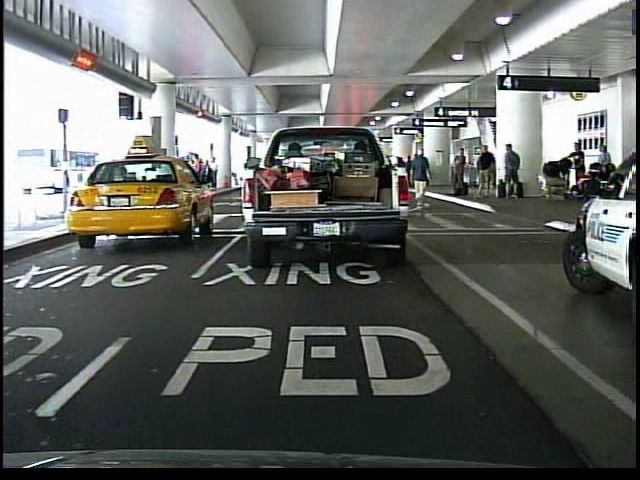person: (365, 138, 401, 227), (408, 146, 433, 214), (567, 139, 592, 200), (591, 140, 616, 200)
